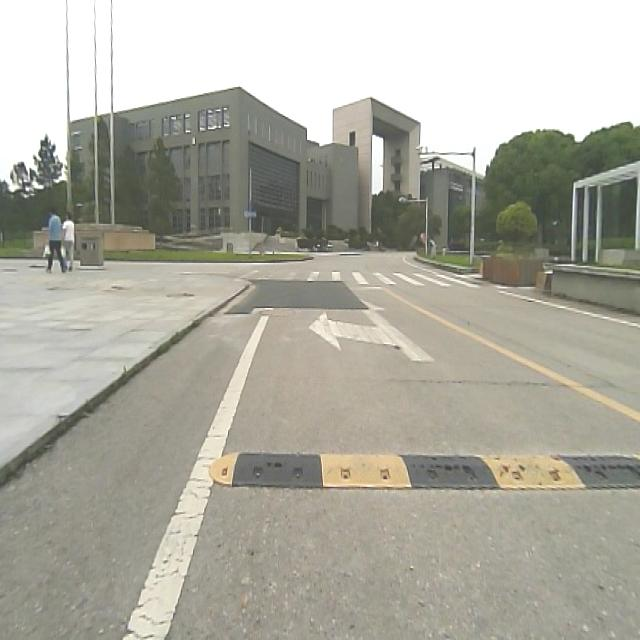Speed Bump: (206, 444, 640, 496)
